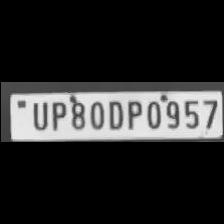0: (86, 98, 104, 130), (143, 98, 161, 130)
5: (180, 97, 200, 129)
7: (200, 97, 220, 129)
8: (66, 98, 86, 132)
9: (163, 97, 181, 129)
D: (105, 98, 123, 130)
P: (47, 99, 67, 131), (122, 98, 142, 130)
U: (28, 99, 48, 131)
